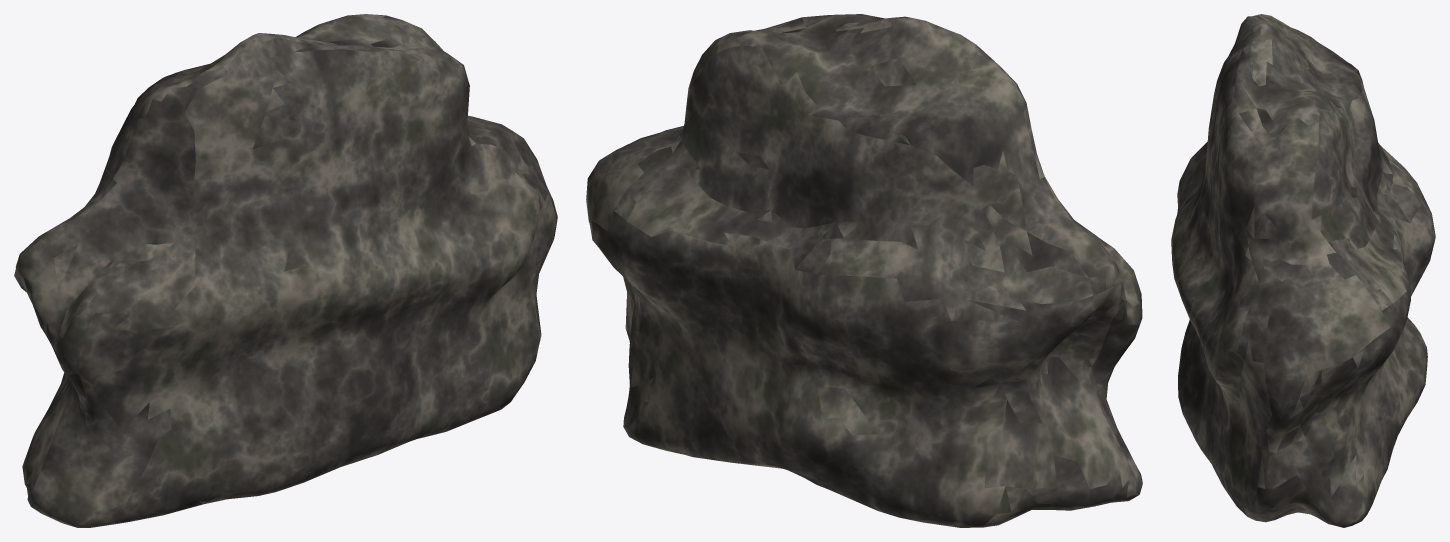
File: rock_cliff_01.glb
The picture shows the model from 3 angles, left to right: view 1: azimuth 30°, elevation 25°; view 2: azimuth 150°, elevation 25°; view 3: azimuth 270°, elevation 25°; orthographic projection. The views are drawn at different scales.
Parts seen in each view (by area): view 1: rock_cliff_01; view 2: rock_cliff_01; view 3: rock_cliff_01.
Part boxes in pixels (x1,y1,x2,y2): rock_cliff_01: [14, 14, 557, 527]; rock_cliff_01: [586, 14, 1142, 527]; rock_cliff_01: [1171, 14, 1435, 527].
Size of what is drawn, in the model's own units: 5.66 by 4.43 by 2.65.
Materials: 1 (1 with a texture image).
